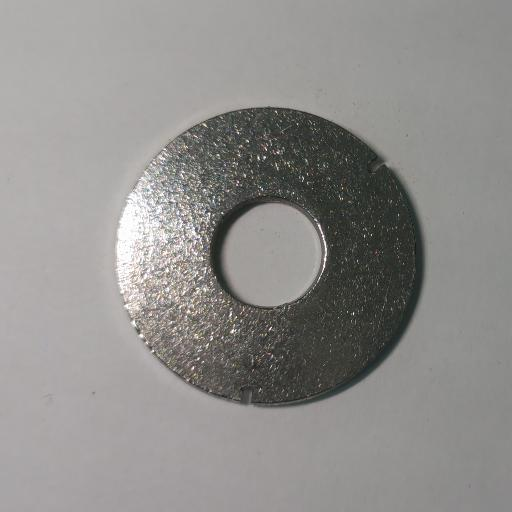burr: (365, 152, 386, 174)
